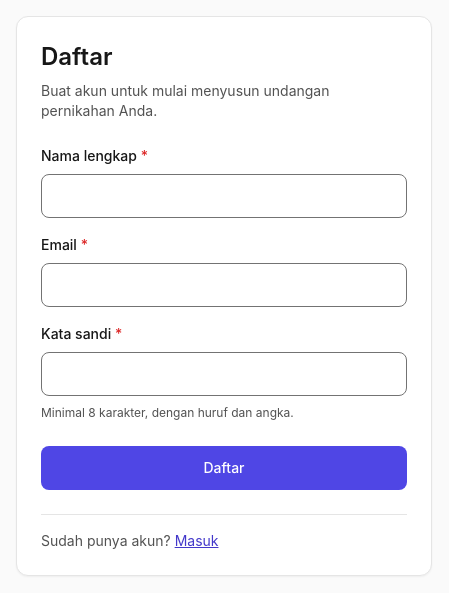
Test: what the screens refuse to reveal › registration shows the same confirmation whatever the server found
Type "Budi" into the field labelled "Nama lengkap *". click: (224, 196)
box: top-left (41, 174), bottom-right (407, 218)
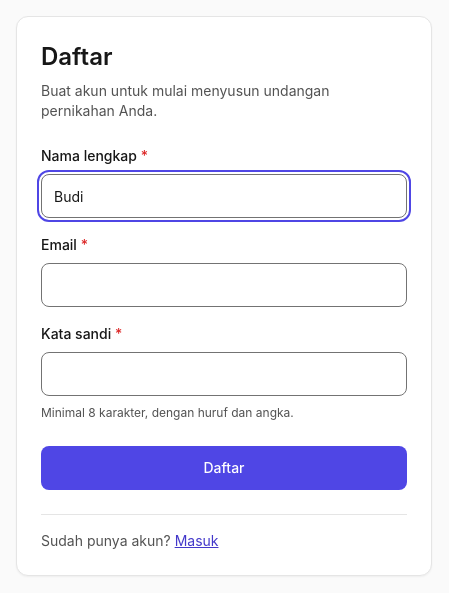
Type "taken@example.test" into the field labelled "Email *". click: (224, 285)
box: top-left (41, 263), bottom-right (407, 307)
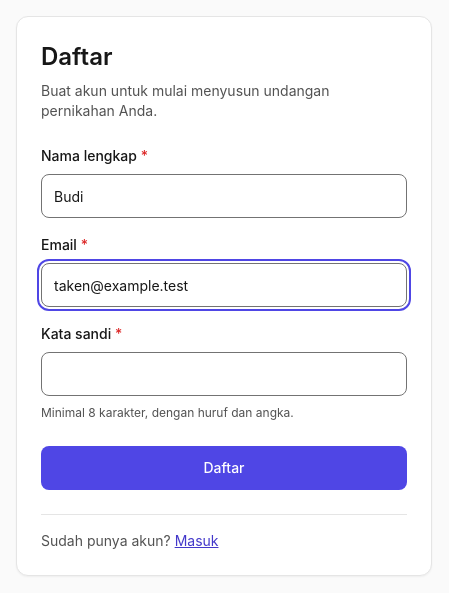
Type "rahasia123" into the password field labelled "Kata sandi *". click: (224, 374)
box: top-left (41, 352), bottom-right (407, 396)
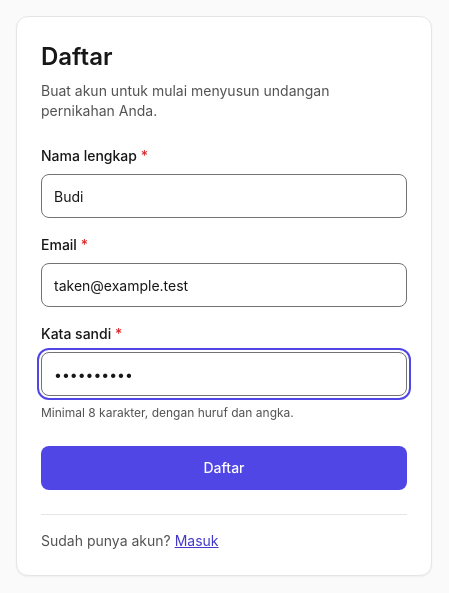
Click the button "Daftar". click: (224, 468)
box: top-left (41, 446), bottom-right (407, 490)
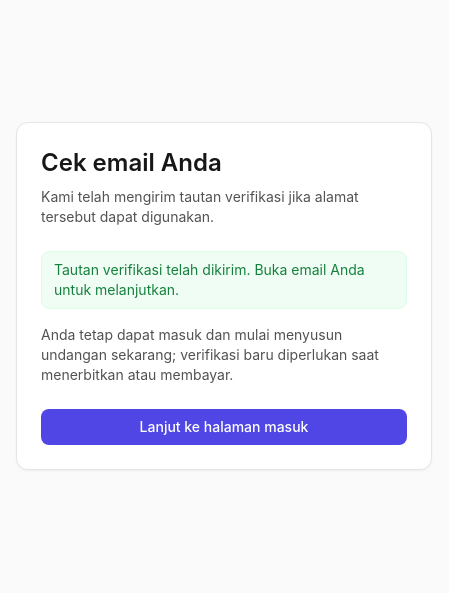
Check: the heading shows "Cek email", box top-left (41, 148), bottom-right (222, 177)
